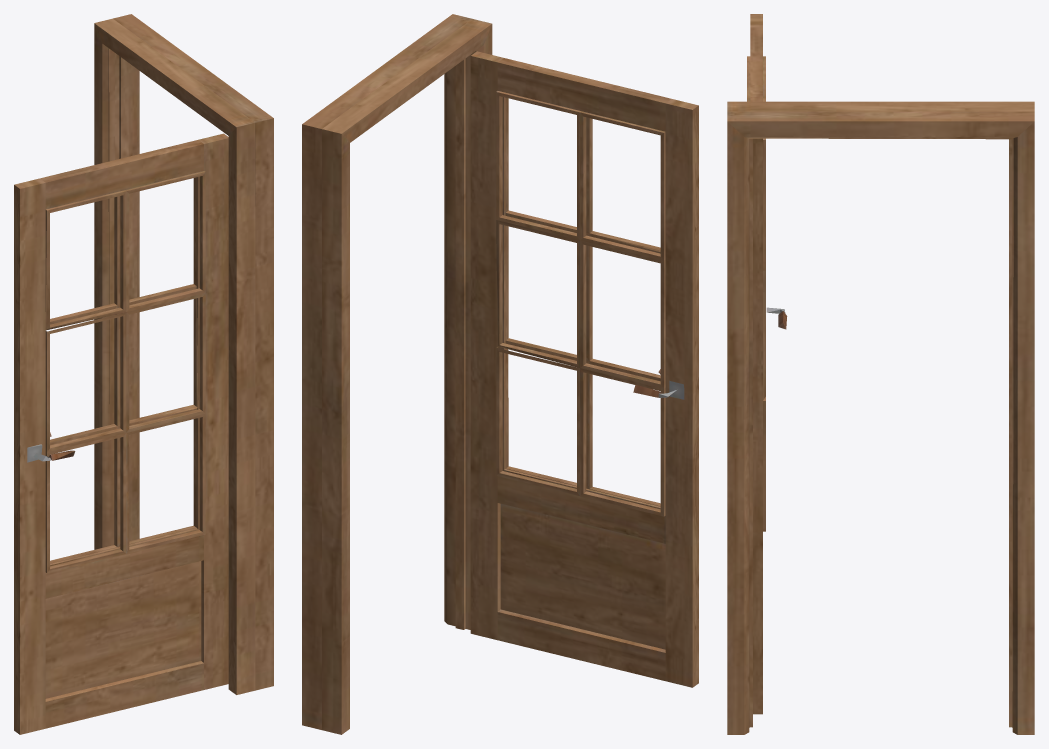
The model's file is Door0024open.obj.
3 views of the same model, side by side, from view 1: azimuth 30°, elevation 25°; view 2: azimuth 150°, elevation 25°; view 3: azimuth 270°, elevation 25° (orthographic). The views are drawn at different scales.
Size of the model in its own units: 0.951 by 2.12 by 0.964.
1 material, 1 textured.
